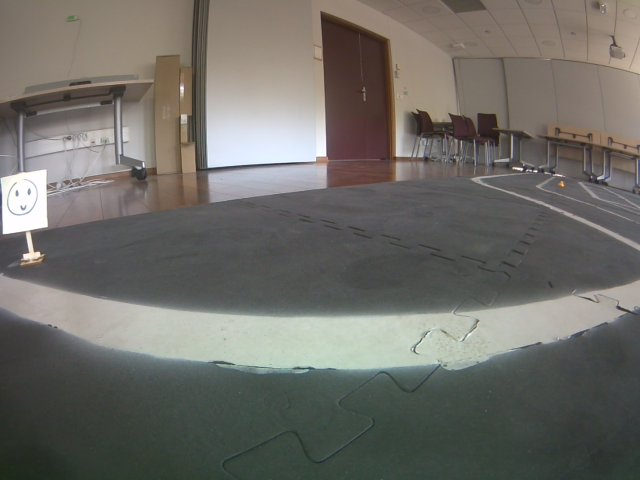Smiley: (1, 173, 52, 233)
